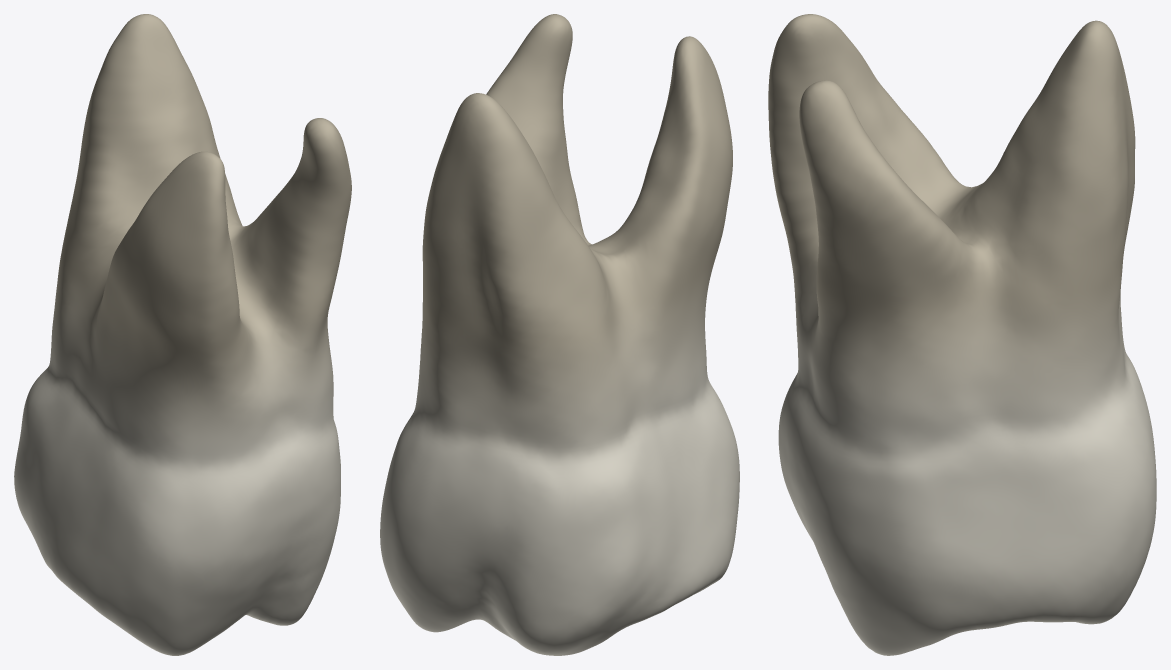
The picture shows the model from 3 angles, left to right: view 1: azimuth 30°, elevation 25°; view 2: azimuth 150°, elevation 25°; view 3: azimuth 270°, elevation 25°; orthographic projection. The views are drawn at different scales.
Parts seen in each view (by area): view 1: Tooth_26_0; view 2: Tooth_26_0; view 3: Tooth_26_0.
Part boxes in pixels (x1=…): Tooth_26_0: x1=14, y1=14, x2=351, y2=655; Tooth_26_0: x1=380, y1=14, x2=739, y2=655; Tooth_26_0: x1=768, y1=14, x2=1156, y2=655.
Bounding box in the file's own units: 1.2 × 2.4 × 1.4.
